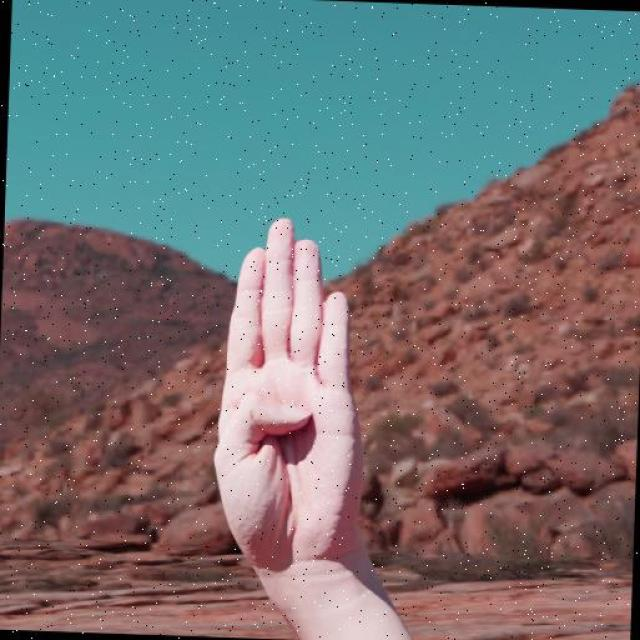B: (206, 211, 375, 579)
